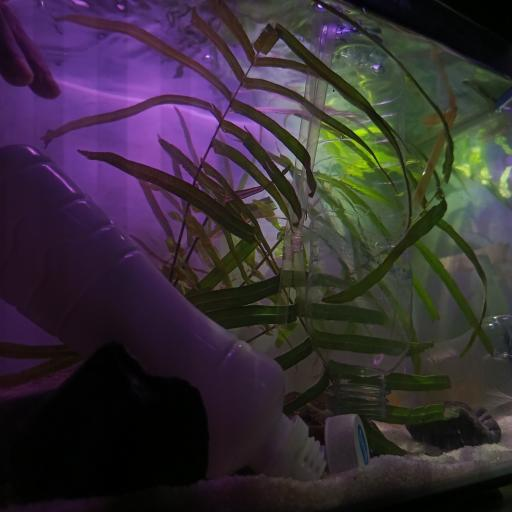bottle_cap: (326, 415, 370, 482)
plastic_bottle: (2, 140, 325, 494), (287, 22, 426, 410)
plastic_straw: (290, 21, 330, 326)
